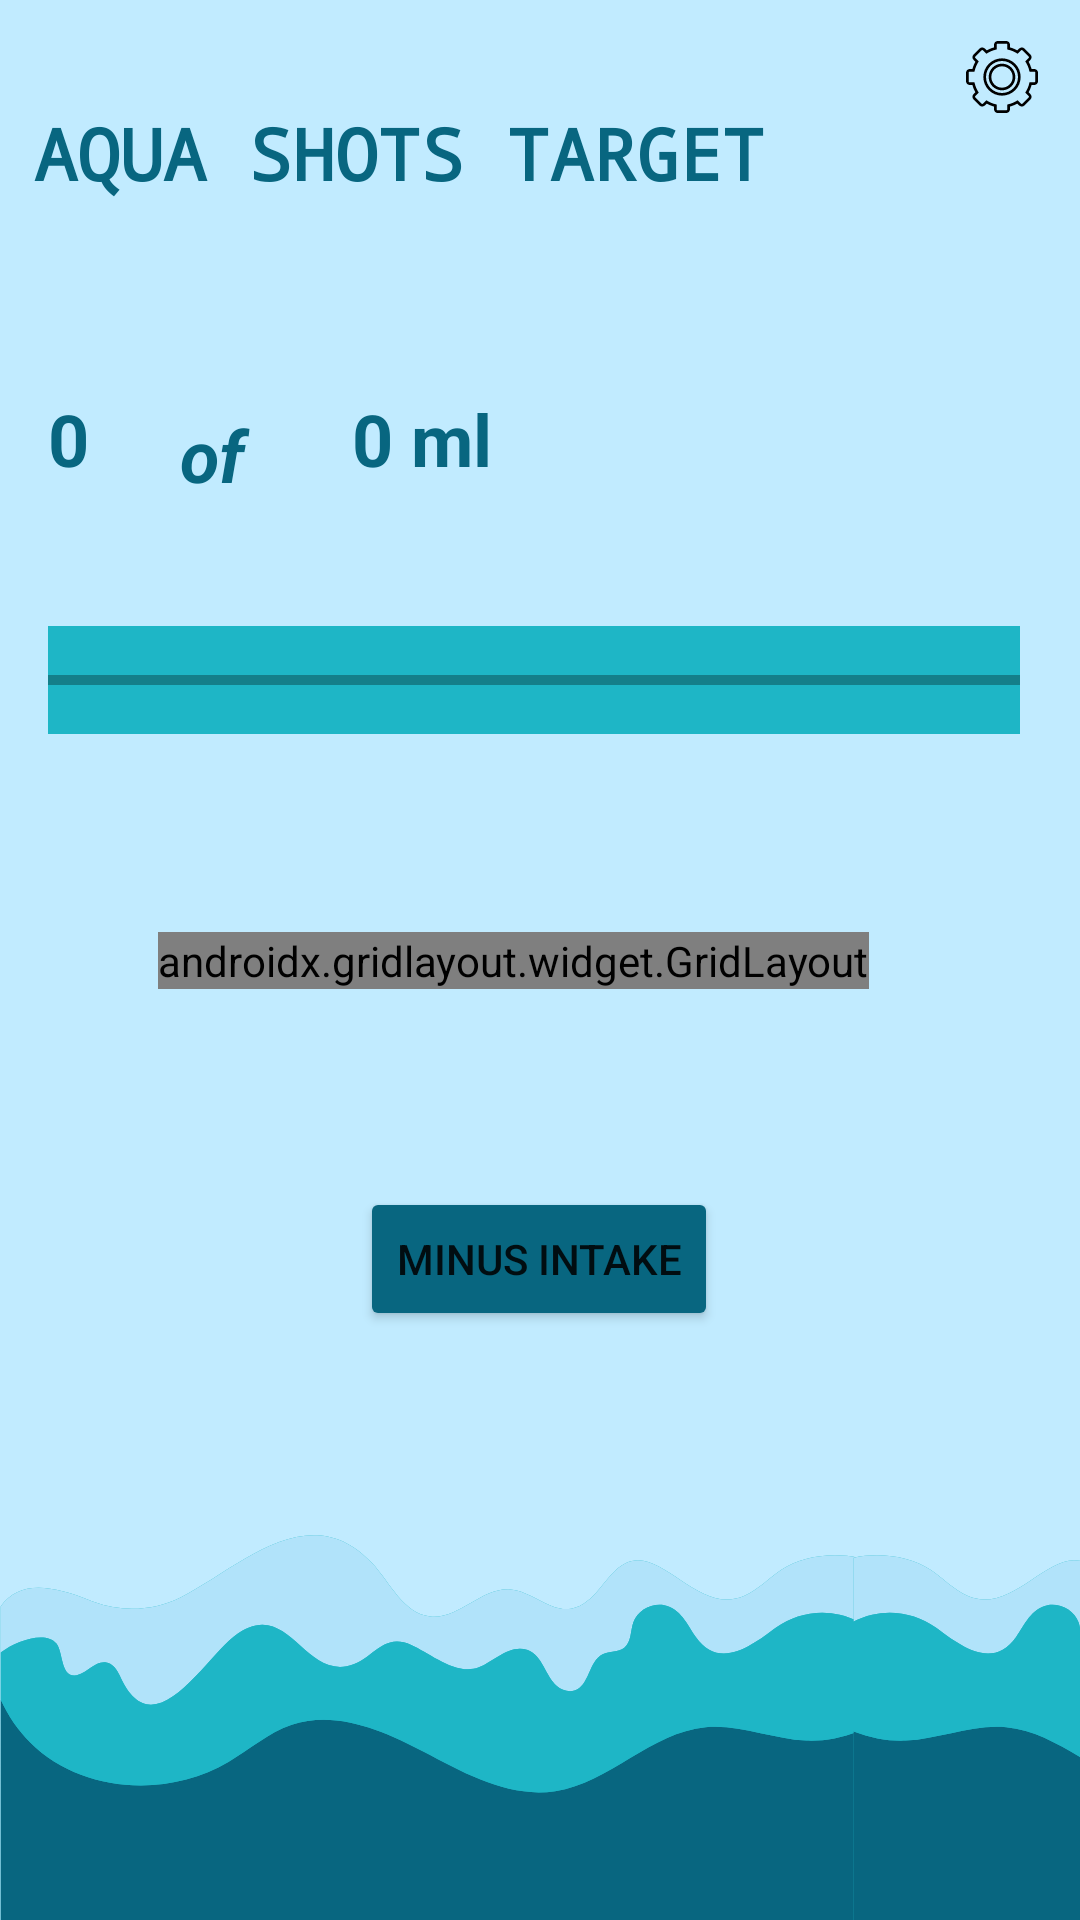

Locate icon controls on the screen. Image size 1080x1920, boxes as (x1, y1, x2, y2).
settings: (966, 41, 1038, 113)
